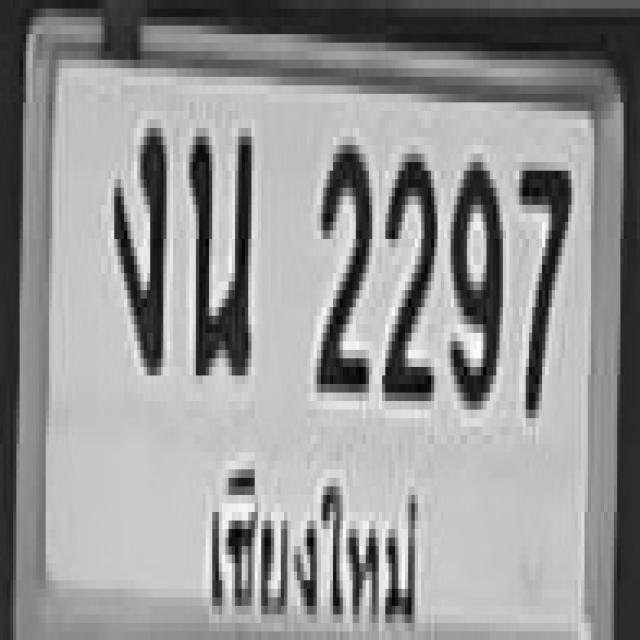16NgorNgu: (111, 119, 163, 367)
2: (313, 137, 369, 384), (379, 145, 434, 393)
34NorNu: (186, 115, 248, 371)
7: (516, 153, 568, 410)
9: (448, 154, 500, 401)
ChiangMai: (197, 452, 427, 639)
